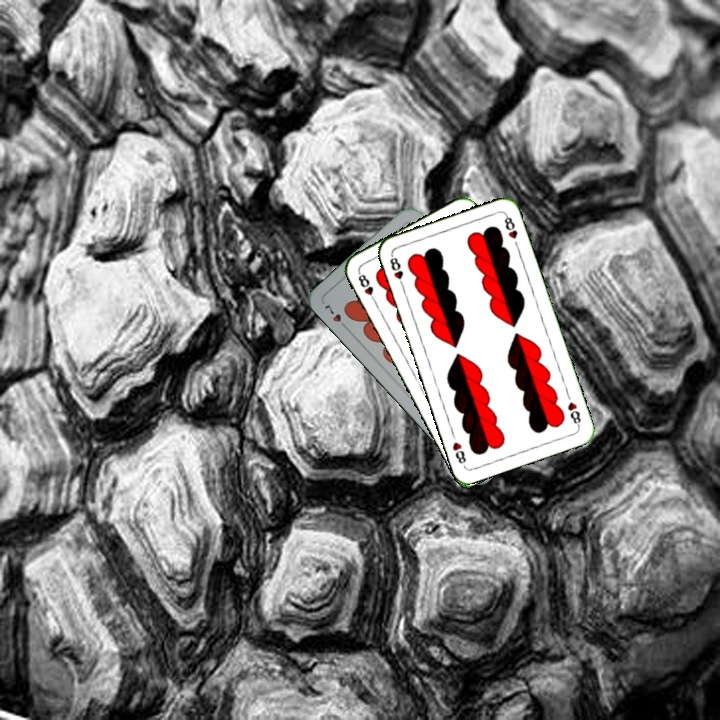H7: (320, 301, 351, 332)
H8: (354, 268, 379, 305), (386, 251, 407, 290), (564, 398, 583, 429)
